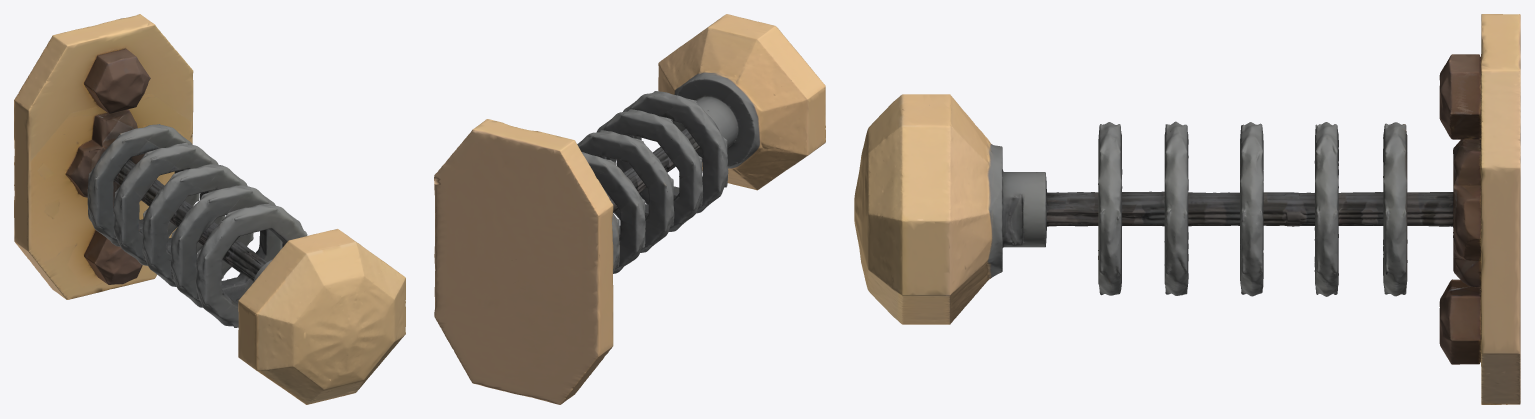
Rendered from Steampunk_Doorstop_3D_1110113348_texture.fbx.
3 renders of one model, left to right at view 1: azimuth 30°, elevation 25°; view 2: azimuth 150°, elevation 25°; view 3: azimuth 270°, elevation 25°, orthographic. The views are drawn at different scales.
Visible parts, largest first — view 1: input; view 2: input; view 3: input.
Boxes of the visible parts, x1=… form: input: x1=14, y1=14, x2=405, y2=404; input: x1=434, y1=14, x2=825, y2=404; input: x1=854, y1=14, x2=1520, y2=404.
Size of the model in its own units: 71.65 by 106 by 190.
Materials: 1 (1 with a texture image).
